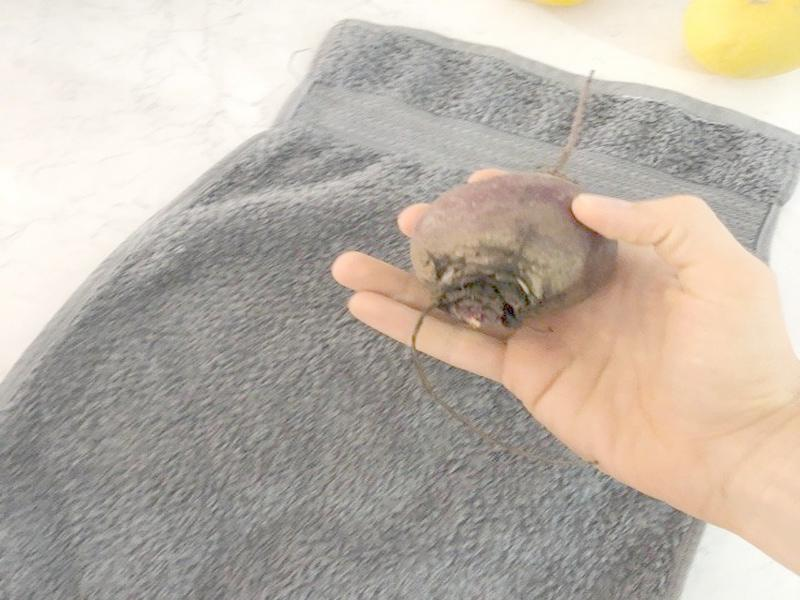Beet: (413, 70, 618, 336)
